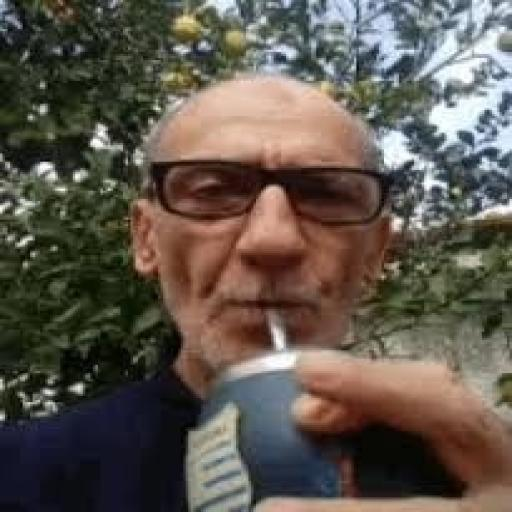drinking: (78, 89, 354, 512)
